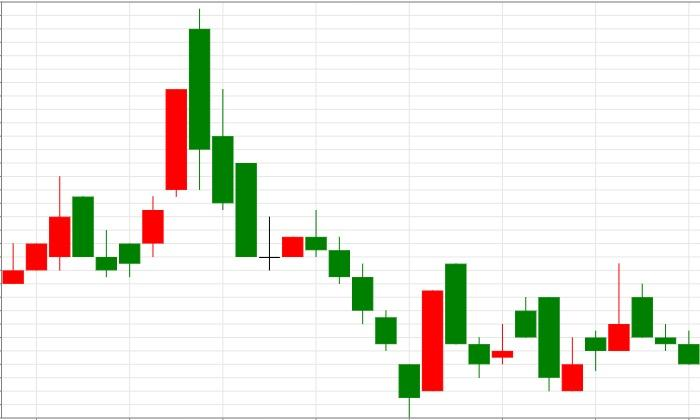hammer_rise: (188, 9, 420, 418)
